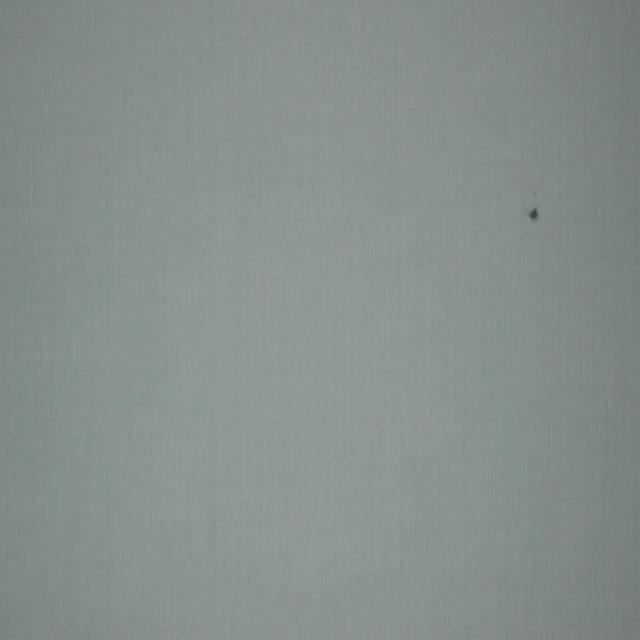dirty: (528, 207, 538, 221)
